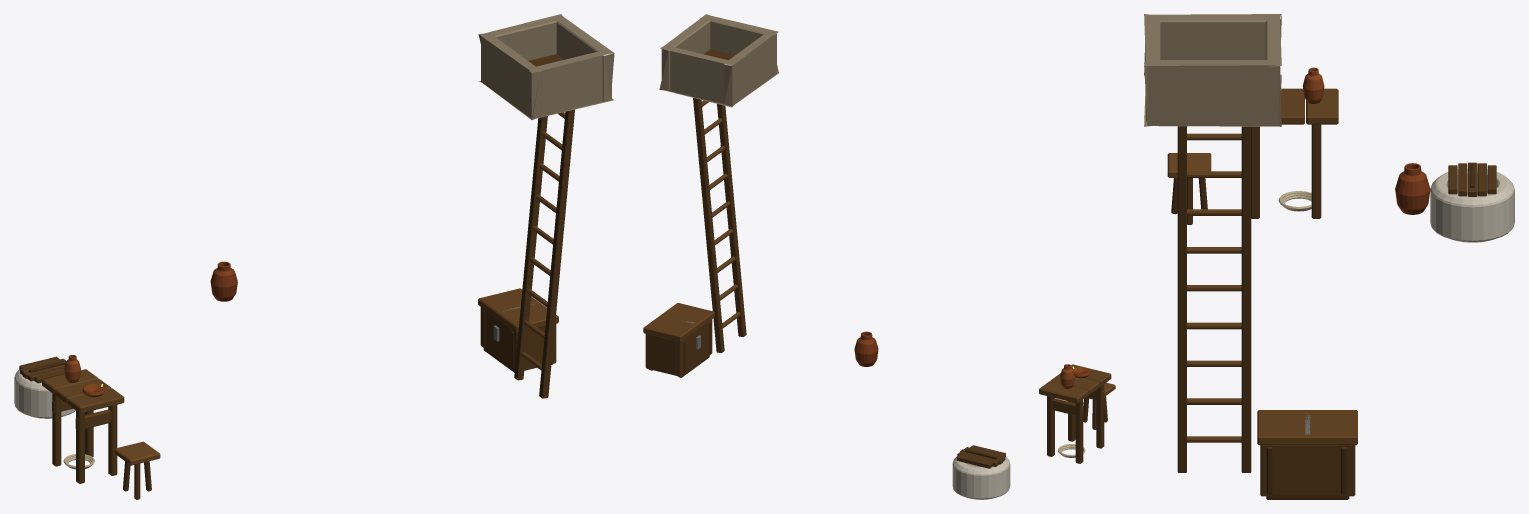
File: Garniture_V3.fbx
3 renders of one model, left to right at view 1: azimuth 30°, elevation 25°; view 2: azimuth 150°, elevation 25°; view 3: azimuth 270°, elevation 25°, orthographic. The views are drawn at different scales.
Parts seen in each view (by area): view 1: V3_Margelle_Trappe, V3_Mobilier_Bois, V3_Echelle_Trappe_Fermee, V3_Terres_Cuites_Lampe, V3_Margelle_Citerne, V3_Couvercle_Citerne; view 2: V3_Margelle_Trappe, V3_Mobilier_Bois, V3_Echelle_Trappe_Fermee, V3_Margelle_Citerne, V3_Terres_Cuites_Lampe, V3_Couvercle_Citerne; view 3: V3_Margelle_Trappe, V3_Mobilier_Bois, V3_Echelle_Trappe_Fermee, V3_Margelle_Citerne, V3_Terres_Cuites_Lampe, V3_Couvercle_Citerne, V3_Cordage.
Part boxes in pixels (x1=…): V3_Margelle_Trappe: x1=478, y1=14, x2=614, y2=119; V3_Mobilier_Bois: x1=42, y1=288, x2=558, y2=499; V3_Echelle_Trappe_Fermee: x1=514, y1=54, x2=574, y2=398; V3_Terres_Cuites_Lampe: x1=64, y1=261, x2=237, y2=397; V3_Margelle_Citerne: x1=14, y1=370, x2=75, y2=418; V3_Couvercle_Citerne: x1=19, y1=356, x2=66, y2=383; V3_Margelle_Trappe: x1=659, y1=14, x2=778, y2=107; V3_Mobilier_Bois: x1=643, y1=303, x2=1115, y2=463; V3_Echelle_Trappe_Fermee: x1=693, y1=49, x2=746, y2=352; V3_Margelle_Citerne: x1=952, y1=456, x2=1010, y2=499; V3_Terres_Cuites_Lampe: x1=854, y1=331, x2=1090, y2=388; V3_Couvercle_Citerne: x1=956, y1=445, x2=1005, y2=468; V3_Margelle_Trappe: x1=1144, y1=14, x2=1281, y2=126; V3_Mobilier_Bois: x1=1167, y1=88, x2=1357, y2=499; V3_Echelle_Trappe_Fermee: x1=1177, y1=126, x2=1251, y2=472; V3_Margelle_Citerne: x1=1430, y1=168, x2=1514, y2=242; V3_Terres_Cuites_Lampe: x1=1281, y1=67, x2=1430, y2=214; V3_Couvercle_Citerne: x1=1448, y1=162, x2=1496, y2=196; V3_Cordage: x1=1278, y1=191, x2=1311, y2=211.
Bounding box in the file's own units: 508 × 335 × 254.
